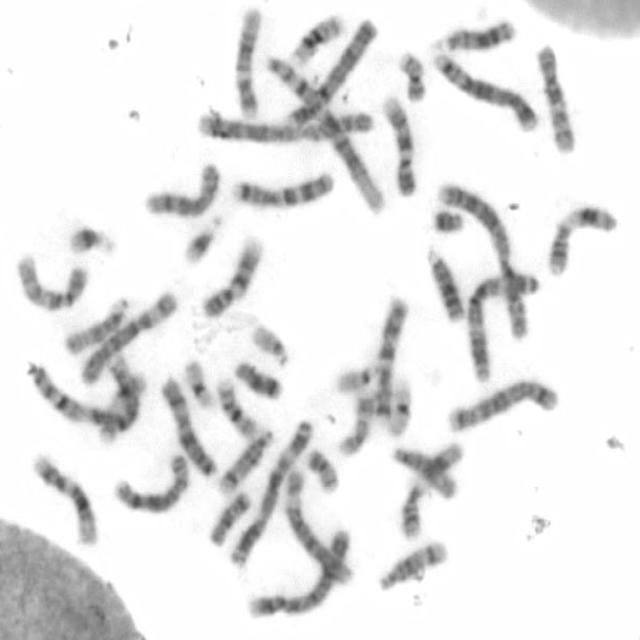A1: (260, 46, 388, 216), (25, 356, 147, 431)
A2: (429, 176, 532, 343), (190, 109, 374, 144)
A3: (226, 411, 316, 570), (463, 263, 541, 383)
B4: (273, 11, 379, 126), (241, 522, 354, 620)
B5: (427, 44, 540, 133), (444, 372, 561, 434)
C10: (10, 246, 94, 313), (530, 37, 578, 154)
C11: (396, 437, 464, 540), (541, 199, 619, 279)
C12: (28, 449, 100, 547), (229, 2, 263, 120)
C6: (76, 285, 180, 387), (280, 464, 356, 587)
C7: (371, 290, 412, 425), (228, 167, 336, 210)
C8: (109, 448, 192, 515), (138, 157, 222, 219)
C9: (197, 230, 264, 321), (376, 90, 420, 198)
D13: (425, 14, 518, 55), (420, 242, 467, 323)
D14: (373, 532, 450, 594), (214, 424, 275, 496)
D15: (58, 292, 132, 358), (385, 442, 460, 502)
E16: (284, 8, 346, 68), (212, 370, 260, 440)
E17: (98, 376, 151, 452), (332, 388, 376, 459)
E18: (203, 486, 253, 547), (230, 355, 285, 401)
F19: (380, 370, 416, 438), (180, 353, 218, 411)
F20: (394, 43, 430, 104), (301, 443, 342, 494)
G21: (178, 209, 224, 267), (63, 217, 120, 258)
G22: (246, 317, 292, 368), (329, 356, 382, 397)
X: (156, 372, 220, 480)
Y: (428, 206, 466, 235)
